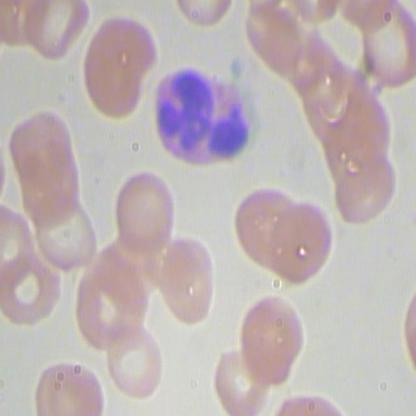RBC: (80, 13, 162, 127), (156, 230, 227, 327), (237, 291, 307, 388), (103, 319, 171, 403), (6, 110, 75, 191), (112, 168, 176, 253), (233, 185, 296, 270), (270, 199, 333, 284), (333, 145, 396, 230), (1, 246, 63, 331), (34, 199, 101, 274), (33, 353, 109, 413), (21, 1, 90, 62), (209, 343, 266, 415)
WBC: (146, 64, 254, 179)
